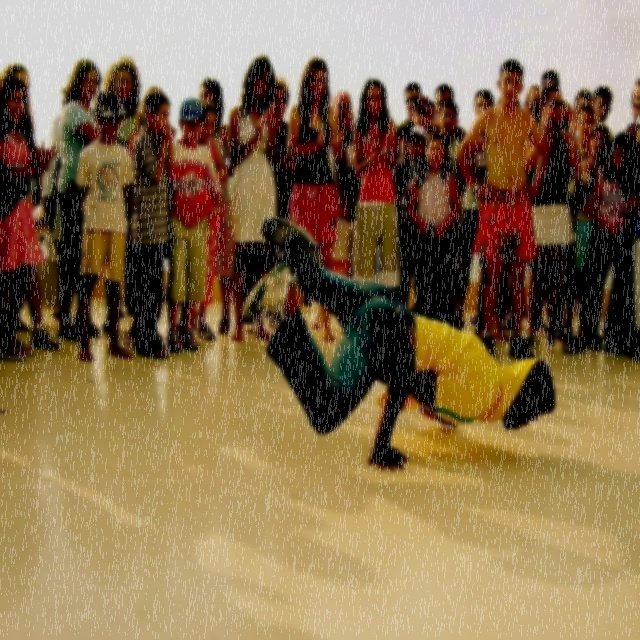pessoa: (243, 216, 556, 477), (454, 59, 550, 366), (0, 74, 60, 364), (224, 55, 284, 342), (282, 55, 342, 342), (74, 89, 136, 363), (522, 82, 580, 352), (168, 96, 222, 354), (54, 59, 102, 342), (128, 89, 178, 360), (580, 132, 638, 360), (126, 84, 176, 340), (406, 130, 464, 328), (568, 122, 615, 356), (350, 78, 400, 286), (453, 88, 495, 334), (198, 77, 236, 336), (190, 100, 228, 342), (430, 98, 464, 324), (392, 124, 429, 310), (328, 89, 363, 278), (264, 78, 296, 225), (41, 113, 62, 323), (101, 55, 144, 152), (626, 78, 640, 359), (572, 85, 616, 144), (426, 84, 467, 144), (542, 69, 574, 113), (395, 80, 423, 128), (493, 274, 512, 344), (570, 88, 594, 142), (575, 104, 596, 162), (408, 96, 436, 134), (625, 91, 640, 138), (523, 84, 543, 112), (306, 300, 324, 330), (426, 99, 436, 126), (634, 78, 640, 112), (536, 320, 549, 334), (470, 310, 478, 329)
